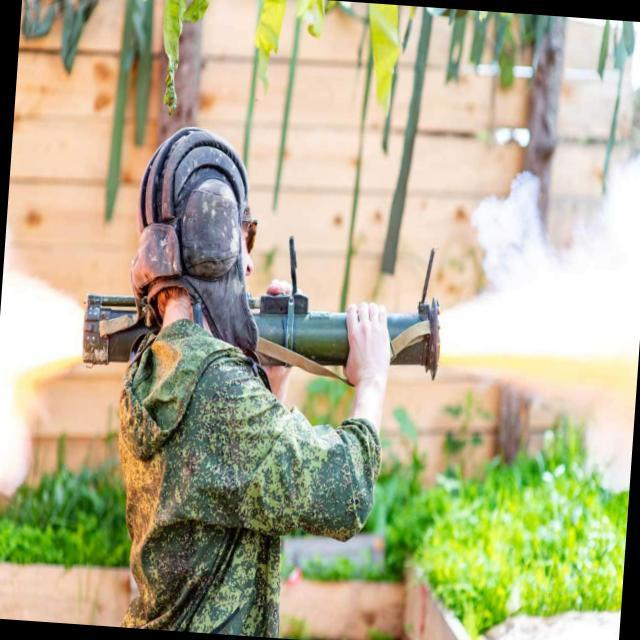rocket: (75, 276, 442, 399)
